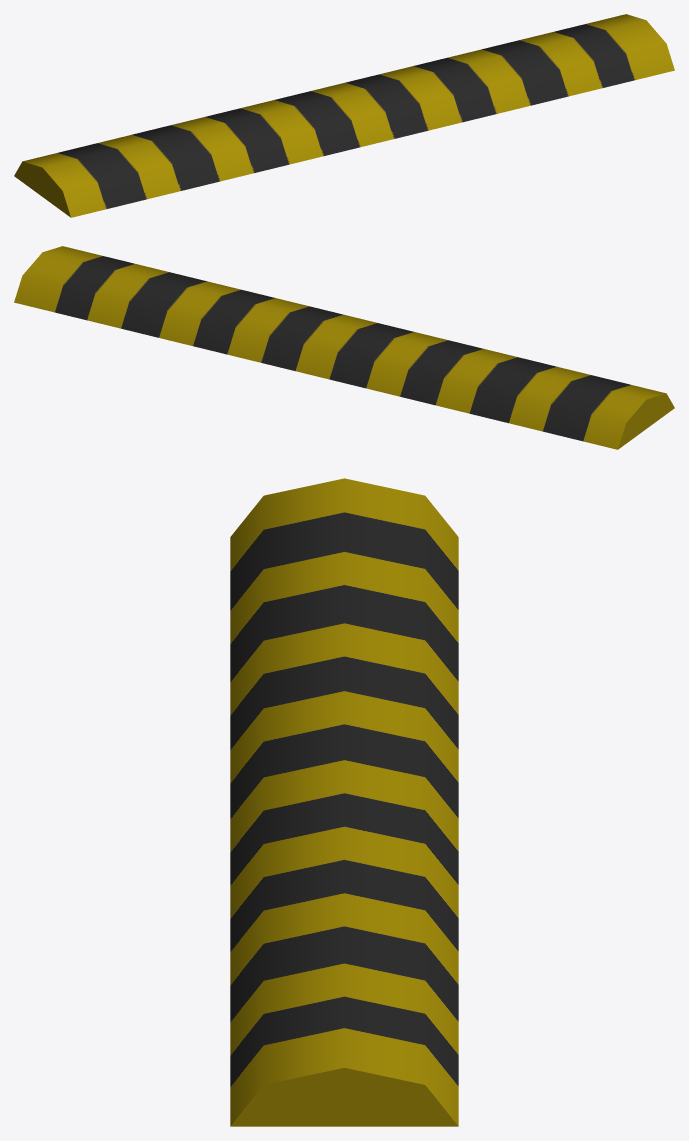
Rendered from Parking_Bump_M.fbx.
3 views of the same model, one above another, from view 1: azimuth 30°, elevation 25°; view 2: azimuth 150°, elevation 25°; view 3: azimuth 270°, elevation 25° (orthographic). The views are drawn at different scales.
Parts seen in each view (by area): view 1: Parking_bump_M; view 2: Parking_bump_M; view 3: Parking_bump_M.
Part boxes in pixels (left/top/right/bottom): Parking_bump_M: left=14, top=14, right=674, bottom=217; Parking_bump_M: left=14, top=246, right=674, bottom=449; Parking_bump_M: left=230, top=478, right=458, bottom=1126.
Bounding box in the file's own units: 451 × 21.01 × 73.96.
Materials: 1 (1 with a texture image).
